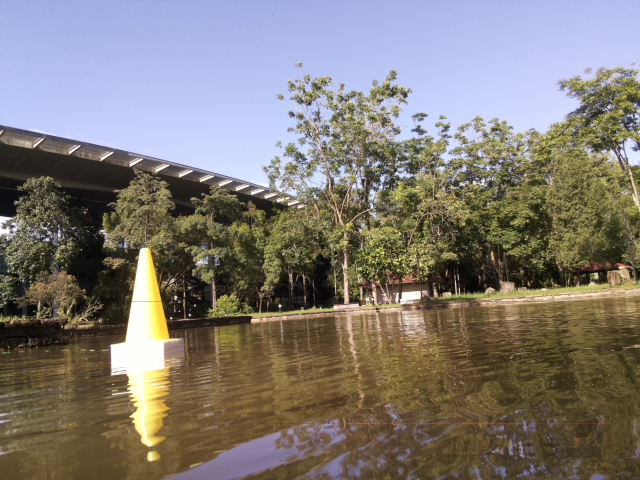checkpoint: (110, 247, 185, 370)
